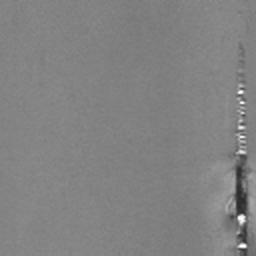Slag inclusion: (224, 40, 252, 253)
